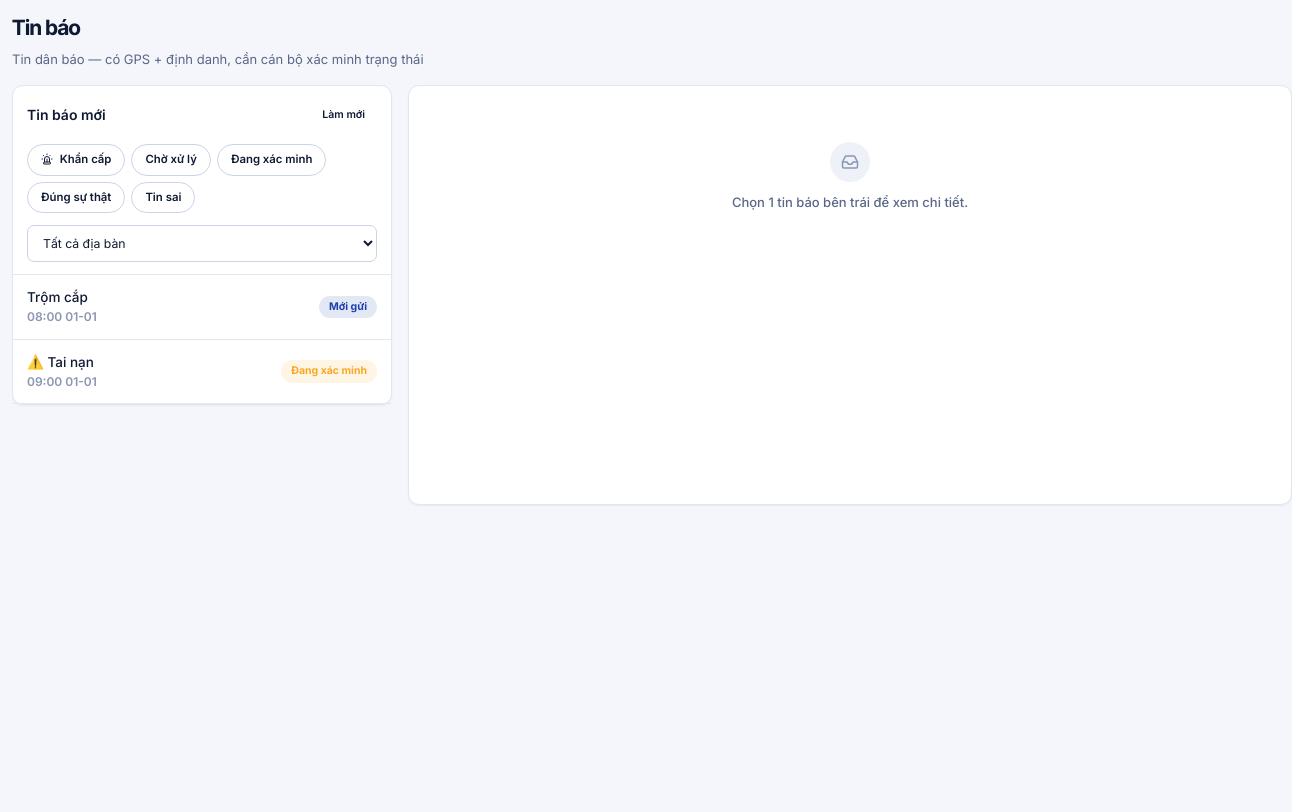
Test: ReportsPage › shows an error when submitting without picking a status first (human-in-the-loop, CLAUDE.md #3)
Click the text "Trộm cắp" at (62, 298), box 27,287 -> 97,308
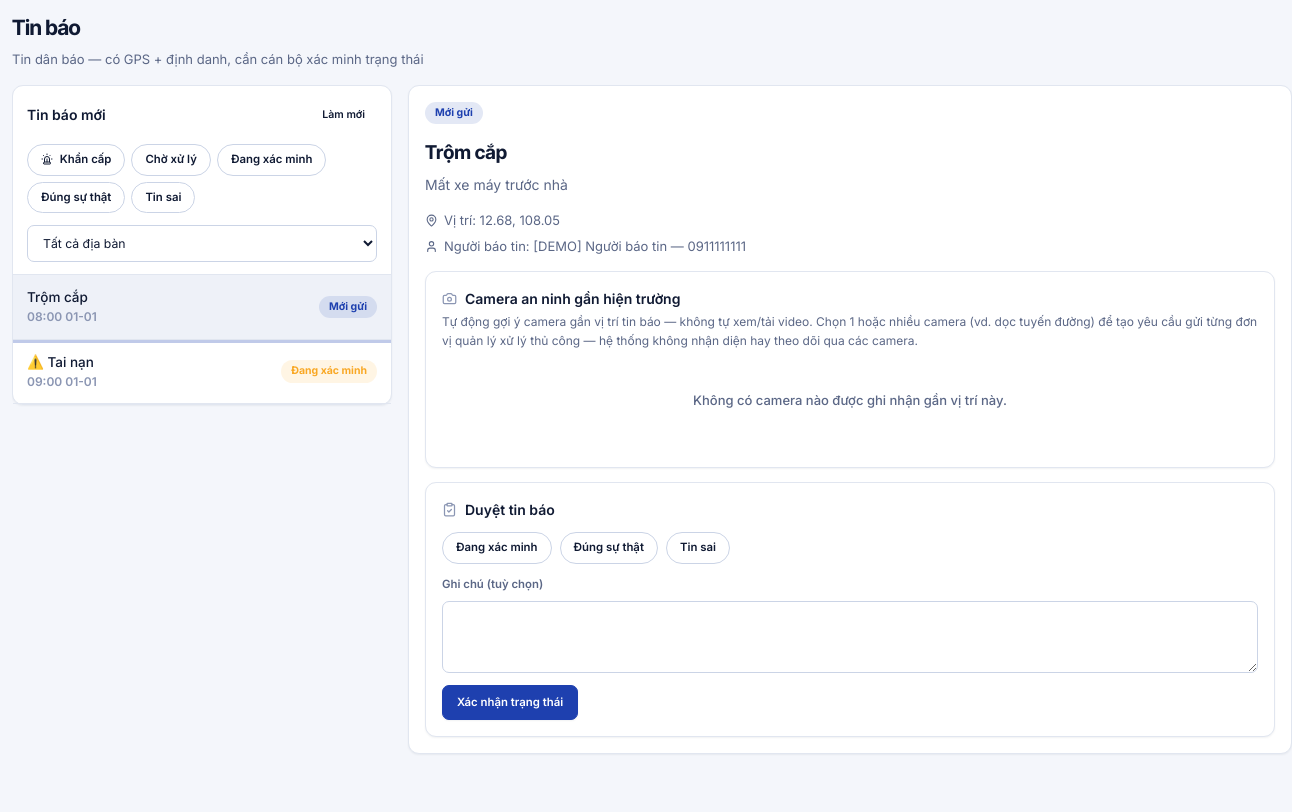
Expected: the text "Duyệt tin báo" is shown, 465,499 -> 555,520
Click the button "Xác nhận trạng thái" at (510, 702), box 442,684 -> 578,720
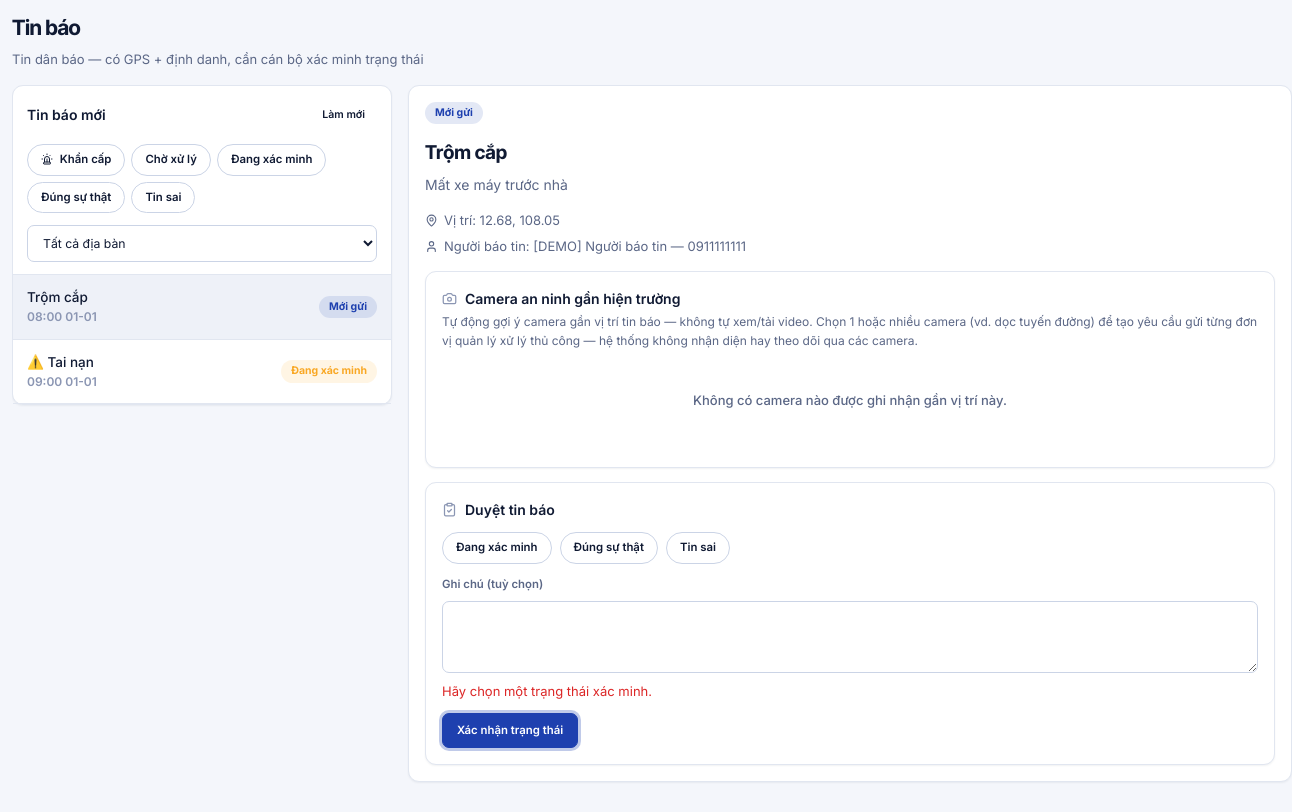
Expected: the message reads "Hãy chọn một trạng thái xác minh.", 442,682 -> 652,698
